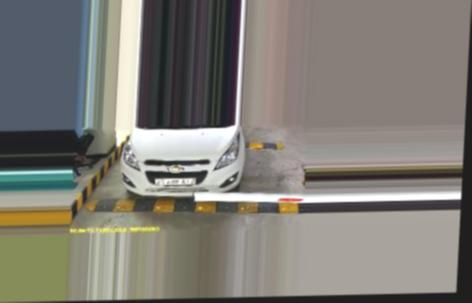License_Plate: (155, 173, 199, 187)
